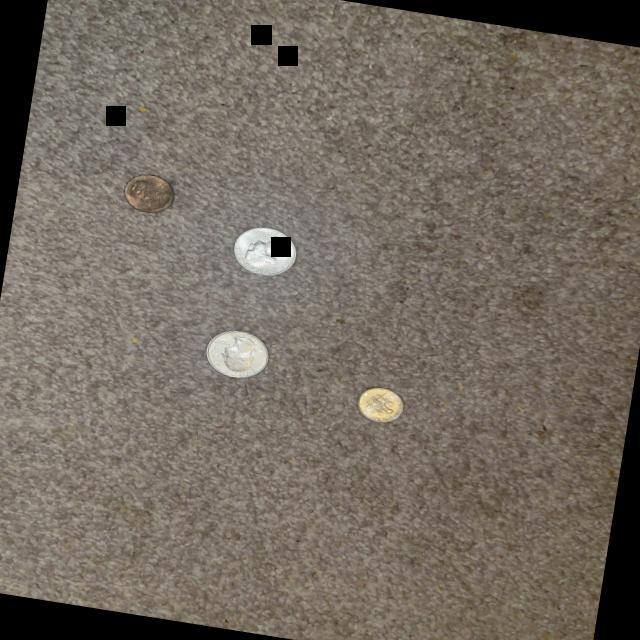Dime: (352, 382, 408, 426)
Penny: (118, 166, 181, 217)
Quarter: (222, 217, 307, 282), (198, 324, 272, 384)
